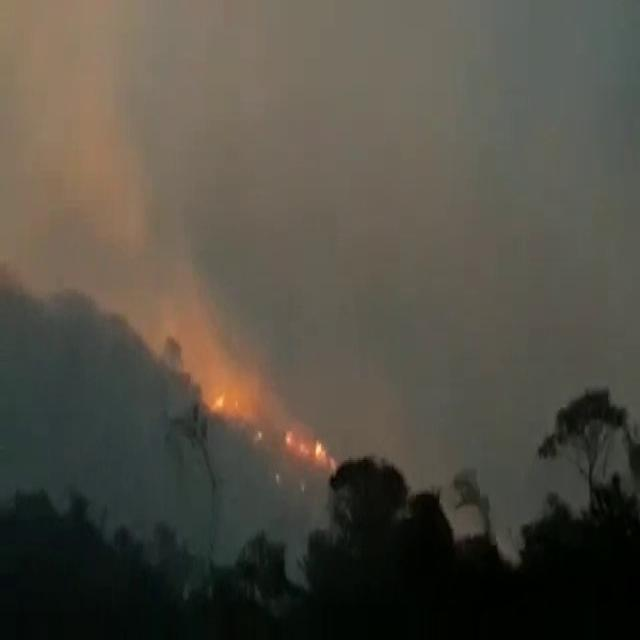Fire: (283, 427, 329, 462), (207, 385, 230, 413)
Smoke: (0, 0, 326, 465)
